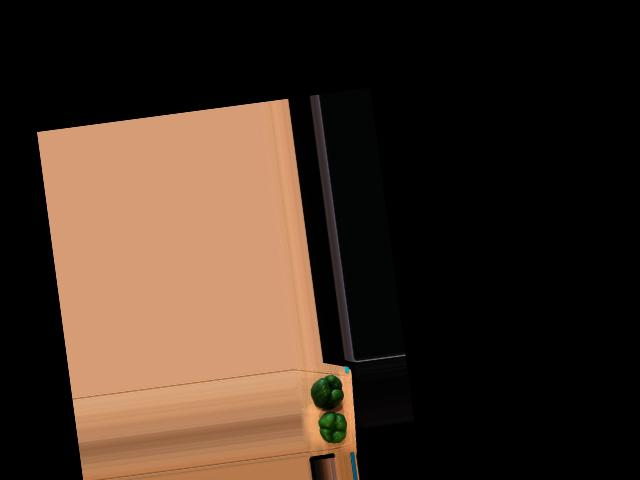bell_pepper: (313, 408, 349, 445)
